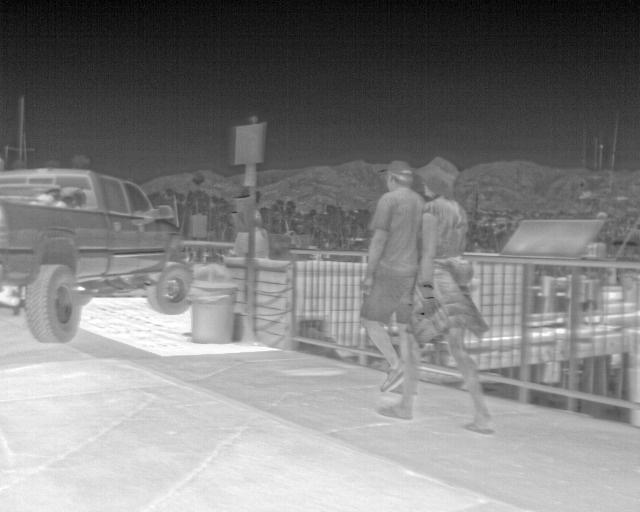bicycle: (1, 162, 192, 342)
empty: (377, 155, 496, 433), (354, 157, 422, 395)
